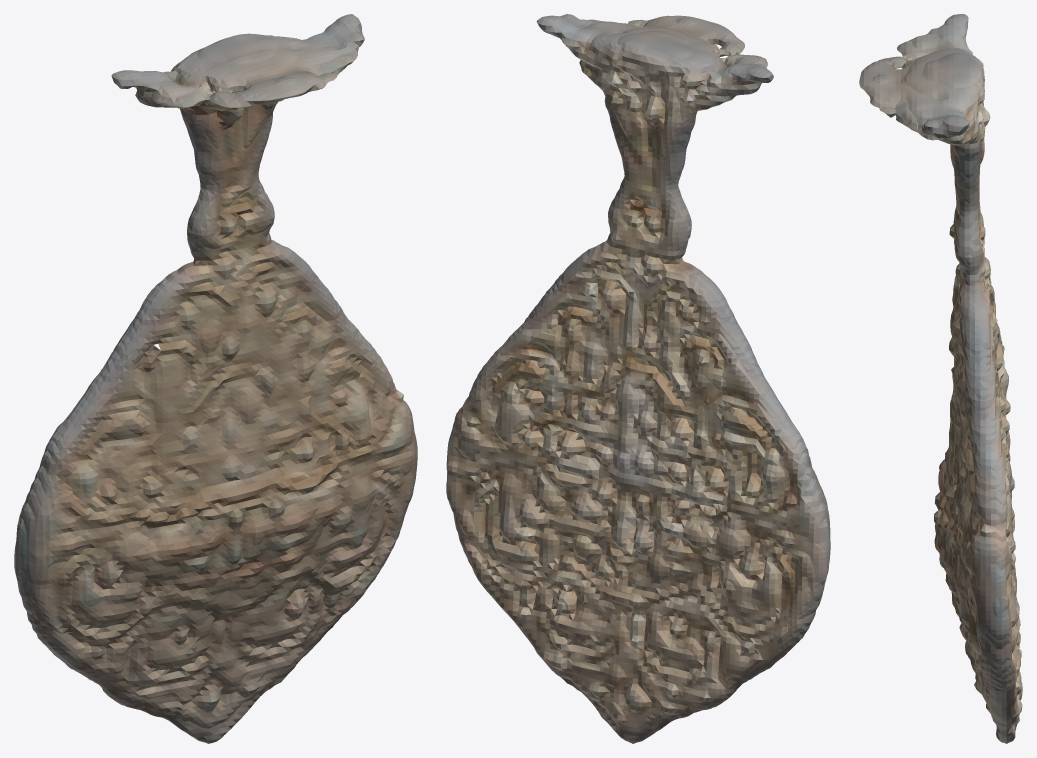
3 views of the same model, side by side, from view 1: azimuth 30°, elevation 25°; view 2: azimuth 150°, elevation 25°; view 3: azimuth 270°, elevation 25° (orthographic). The views are drawn at different scales.
Visible parts, largest first — view 1: world; view 2: world; view 3: world.
Part boxes in pixels (x1=…): world: x1=14, y1=14, x2=417, y2=743; world: x1=446, y1=14, x2=830, y2=743; world: x1=859, y1=14, x2=1022, y2=743.
Bounding box in the file's own units: 0.5607 × 0.9657 × 0.2107.
